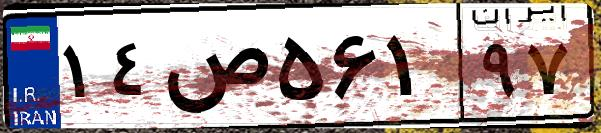1: (385, 28, 445, 110), (57, 26, 110, 100)
4: (110, 28, 158, 98)
5: (270, 28, 330, 110)
6: (330, 28, 385, 110)
7: (525, 38, 570, 115)
9: (475, 38, 525, 113)
ص: (158, 20, 270, 120)
